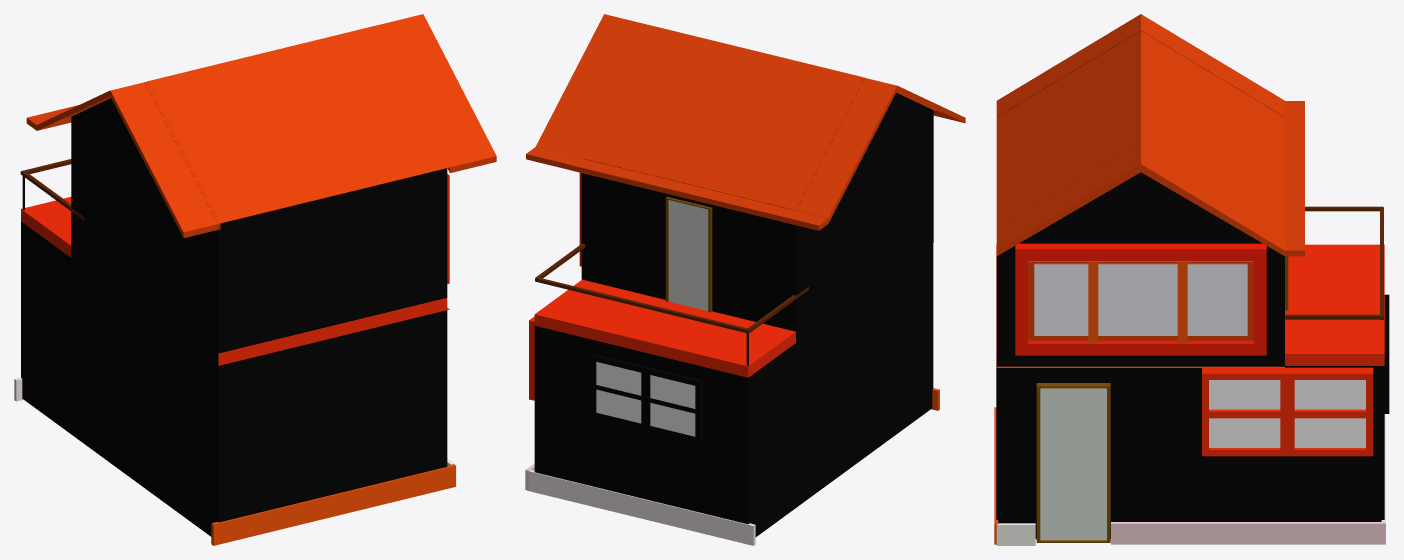
Rendered from Rumah 3.fbx.
3 renders of one model, left to right at view 1: azimuth 30°, elevation 25°; view 2: azimuth 150°, elevation 25°; view 3: azimuth 270°, elevation 25°, orthographic. The views are drawn at different scales.
Visible parts, largest first — view 1: Cube.074; view 2: Cube.074; view 3: Cube.074.
Part boxes in pixels (x1,y1,x2,y2): Cube.074: (14, 14, 496, 545); Cube.074: (525, 14, 965, 545); Cube.074: (994, 14, 1389, 545).
Size of the model in its own units: 548 by 684 by 610.
